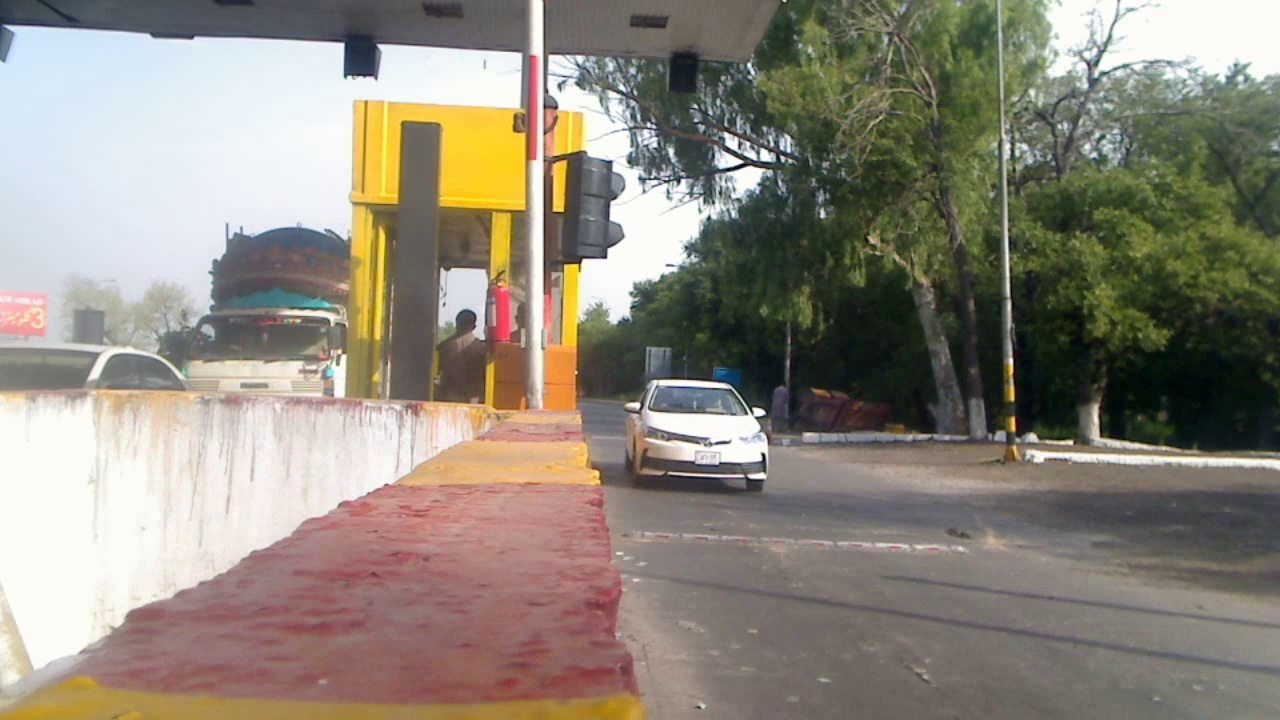Number Plate (Car): (697, 451, 719, 463)
